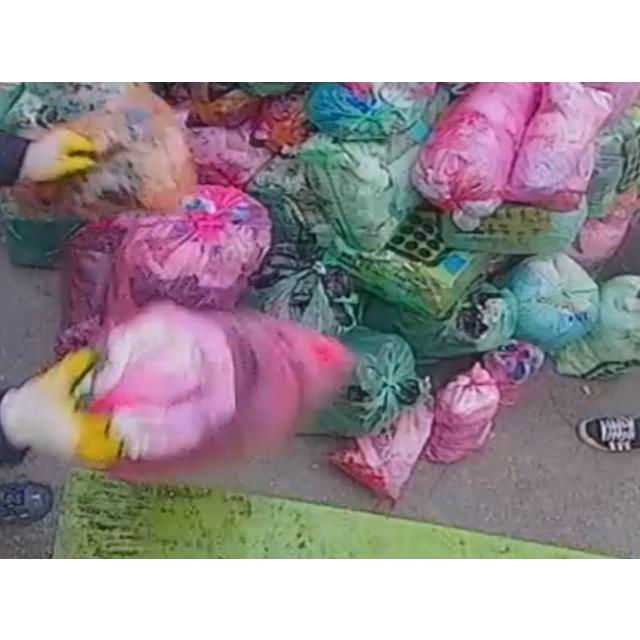general_trashbag: (299, 118, 429, 250), (334, 210, 488, 315), (320, 326, 431, 435), (362, 281, 518, 357), (550, 276, 640, 375), (508, 252, 599, 346), (441, 197, 588, 254), (309, 81, 450, 140), (588, 100, 640, 217)
other_trashbag: (84, 301, 354, 458), (60, 185, 271, 350), (411, 81, 541, 229), (505, 81, 614, 210), (330, 404, 432, 498), (425, 362, 500, 462), (188, 120, 272, 187), (482, 338, 545, 404), (569, 217, 629, 267)
